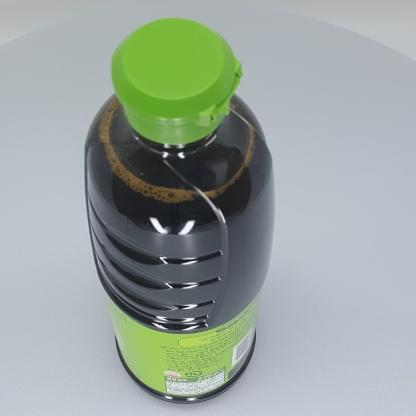-------------: (84, 18, 276, 404)
